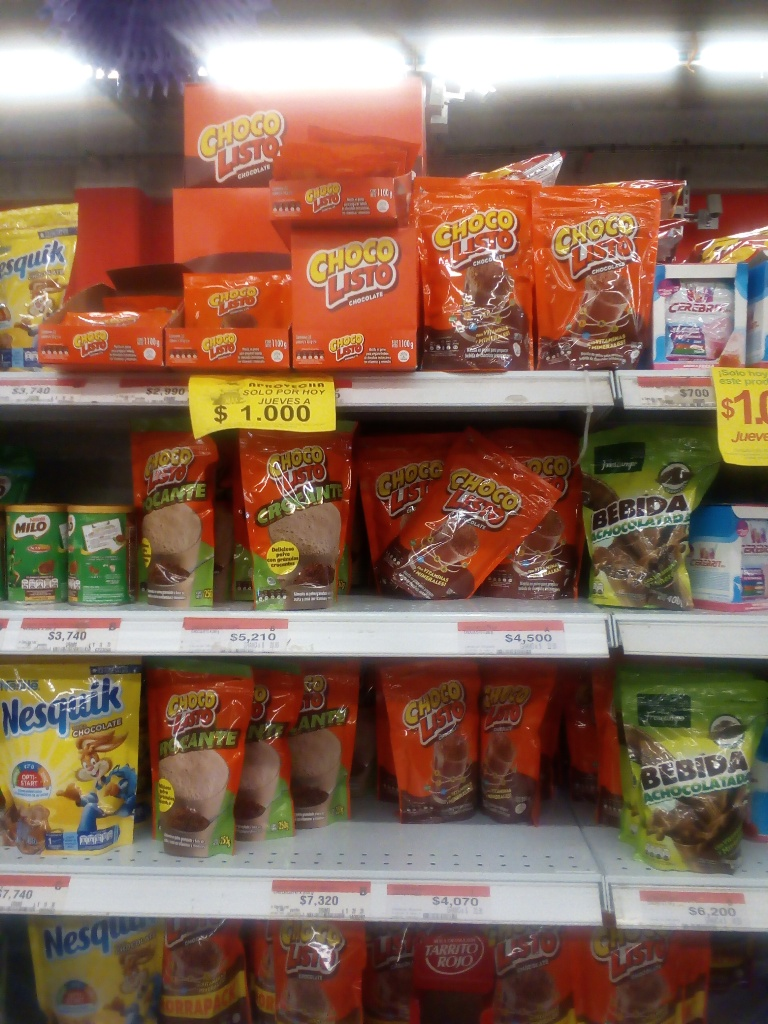COL0170103SOB02000: (182, 264, 296, 334)
COL0170203LAT20000: (3, 500, 65, 605)
COL0170303DYP20000: (1, 185, 75, 373)
